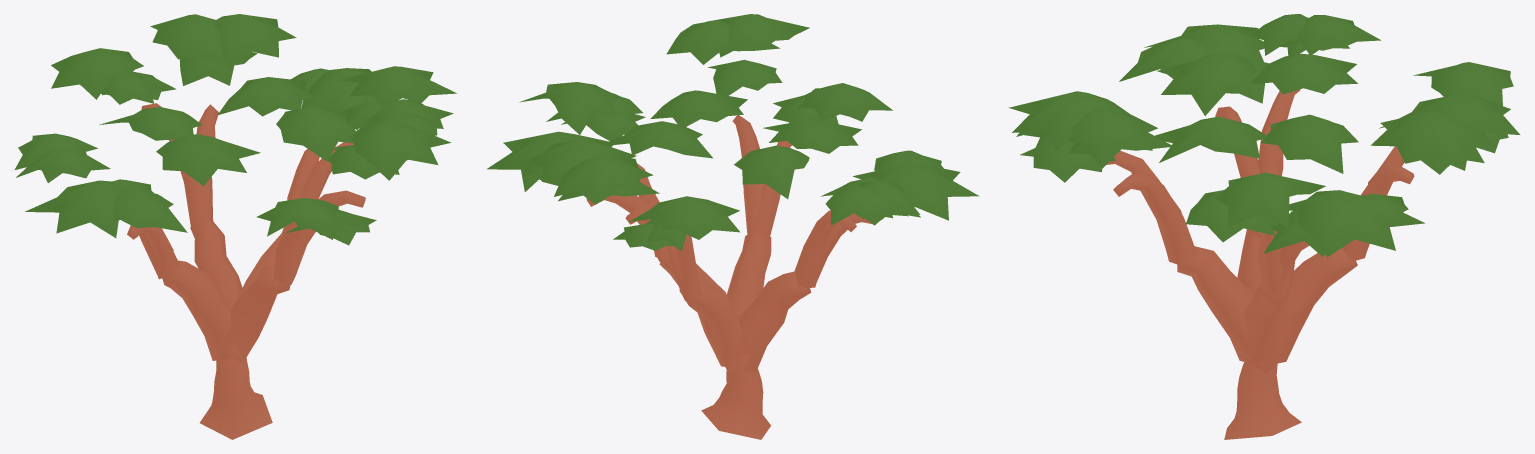
File: Blender_GumboLimbo_1_Far.glb
3 renders of one model, left to right at view 1: azimuth 30°, elevation 25°; view 2: azimuth 150°, elevation 25°; view 3: azimuth 270°, elevation 25°, orthographic. The views are drawn at different scales.
Parts seen in each view (by area): view 1: Blender_GumboLimbo_1_Far; view 2: Blender_GumboLimbo_1_Far; view 3: Blender_GumboLimbo_1_Far.
Boxes of the visible parts, left/top/right/bottom form: Blender_GumboLimbo_1_Far: left=14, top=14, right=456, bottom=439; Blender_GumboLimbo_1_Far: left=487, top=14, right=979, bottom=439; Blender_GumboLimbo_1_Far: left=1008, top=14, right=1519, bottom=439.
Bounding box in the file's own units: 14.02 × 10.97 × 13.22.
